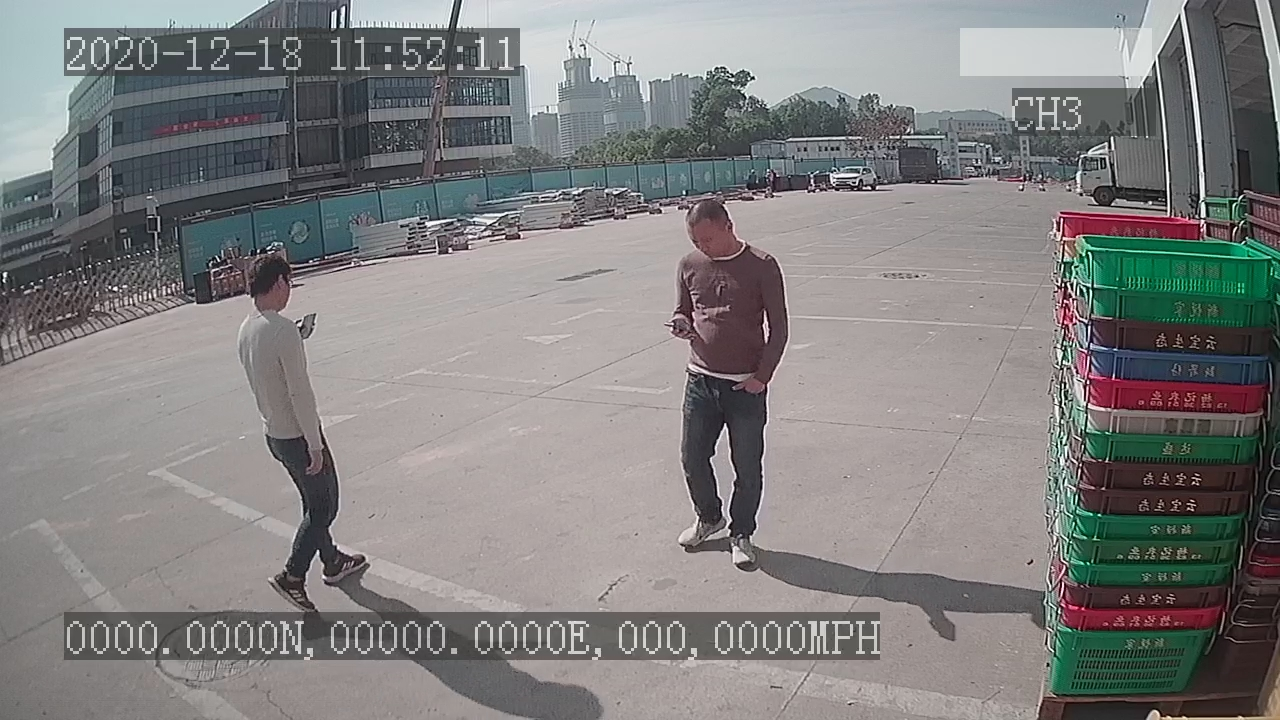person: (656, 195, 797, 579)
